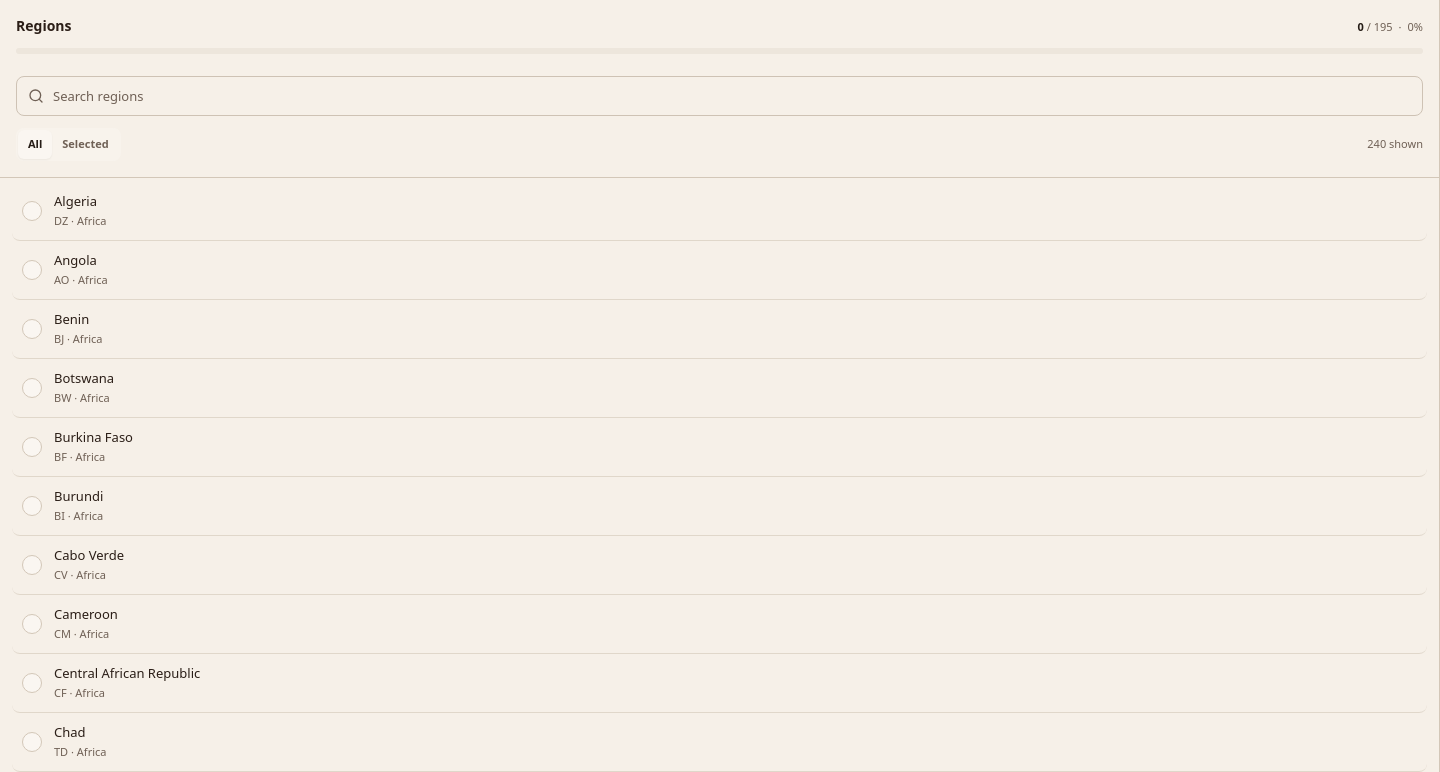
Test: empty region results explain themselves › says nothing is selected yet, and offers a way to select something
The width and height of the screenshot is (1440, 772).
Click the button "selected" at (85, 144), box [52,130,119,158]
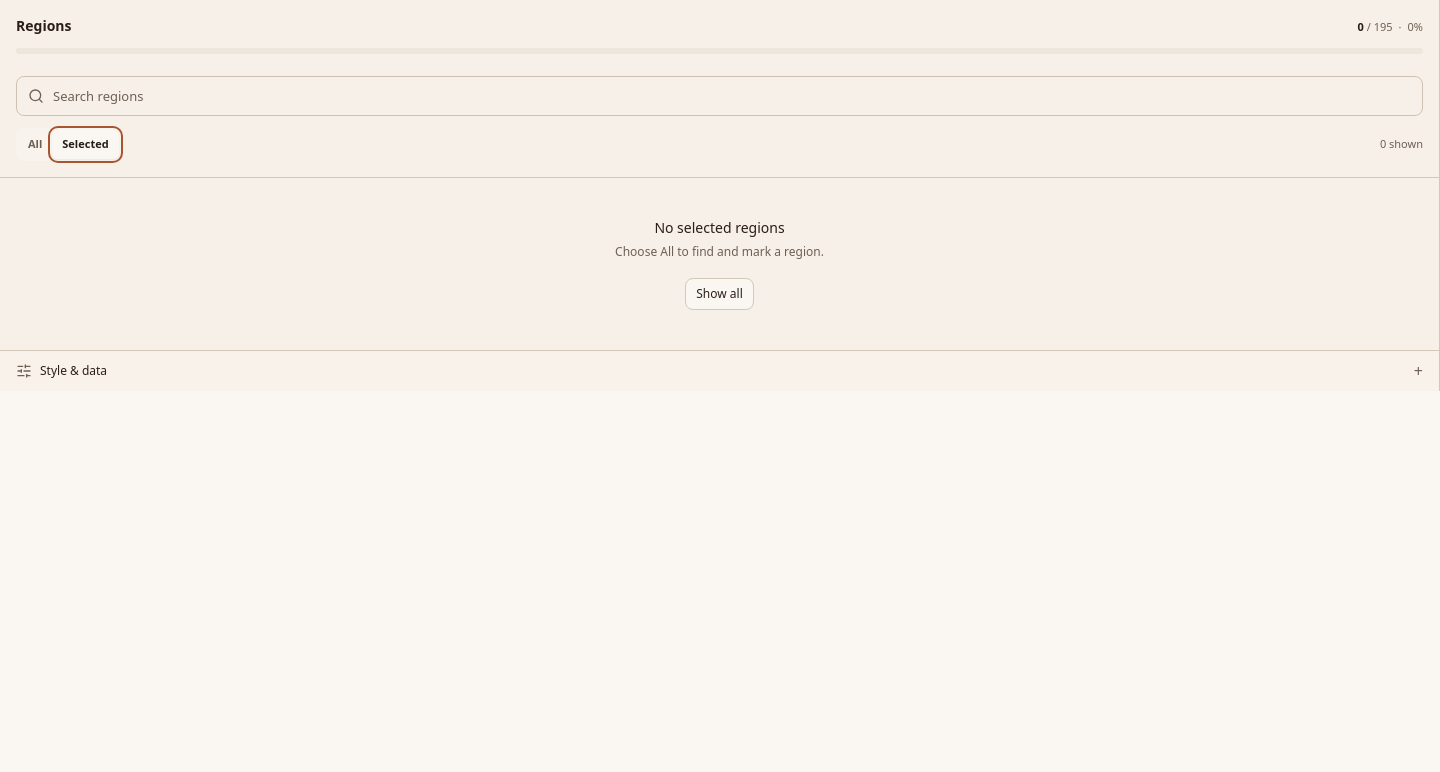
Result: the text "No selected regions" is shown at [654,218,785,236]
Result: the text "Choose All to find and mark a region." is shown at [615,242,824,260]
Click the button "Show all" at (719, 294), box [685,278,754,310]
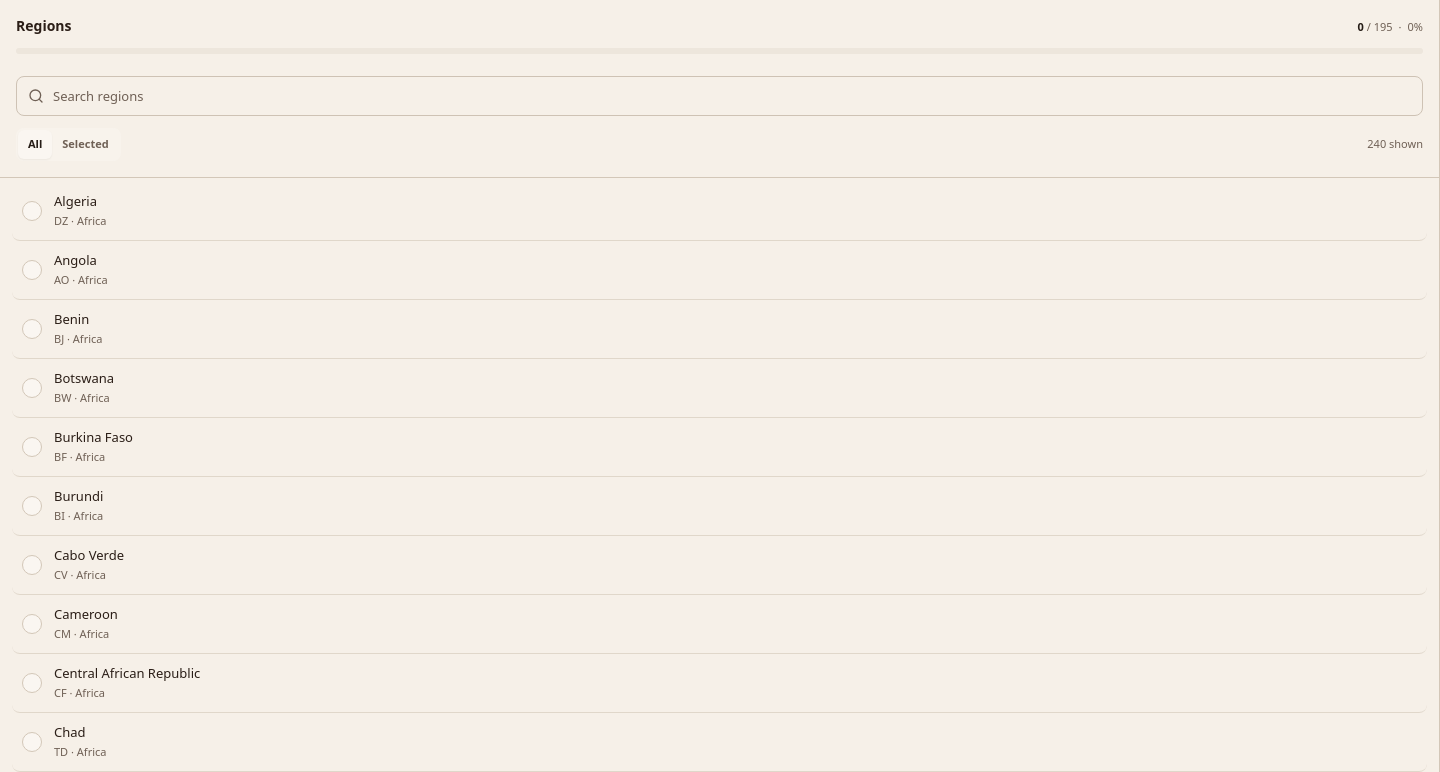
Result: the button "Algeria DZ · Africa" is shown at [12,182,1397,240]
